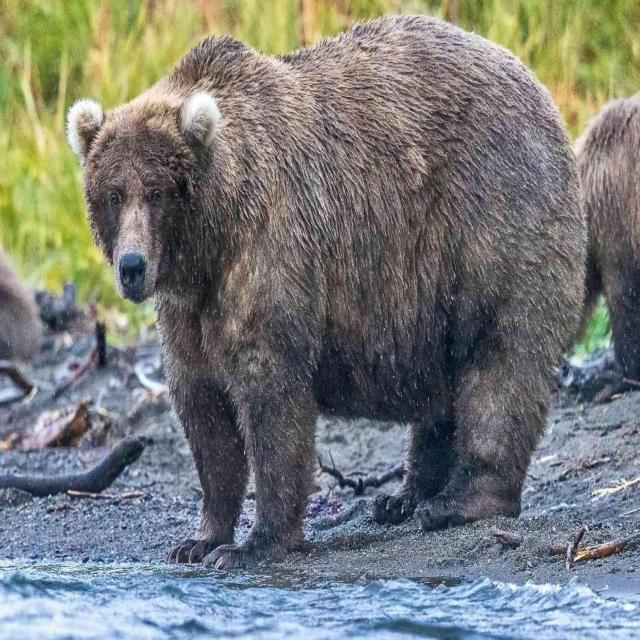Bear: (64, 14, 590, 566), (573, 93, 640, 389)
